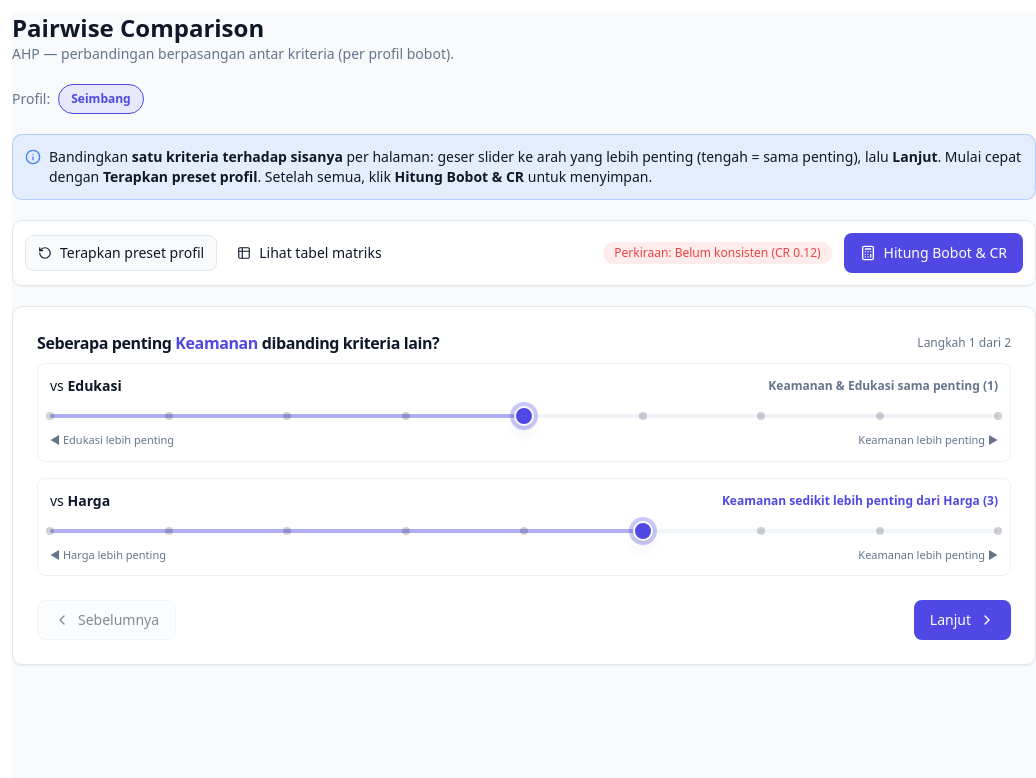
Test: PairwisePage › shows a 'saved' banner after computing
Step 1. Click the button "Hitung Bobot & CR" → (933, 253), box x1=844 y1=233 x2=1023 y2=273
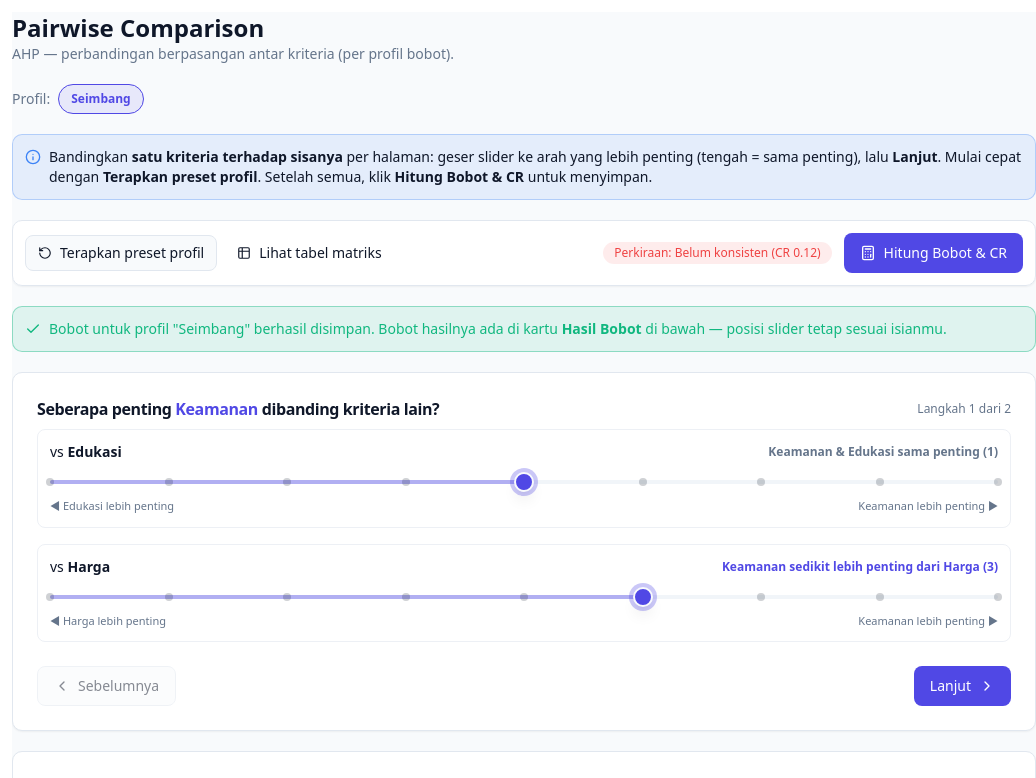
Expected: the text "berhasil disimpan" is shown, x1=49 y1=319 x2=375 y2=338
